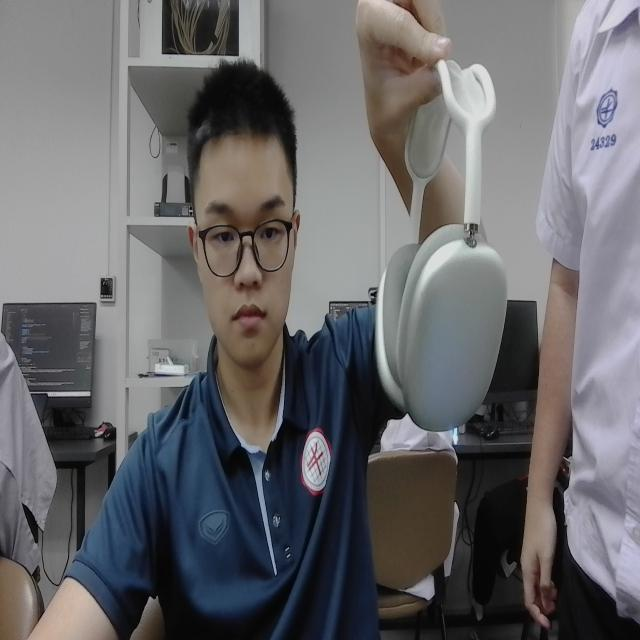airpods max: (357, 19, 514, 446)
